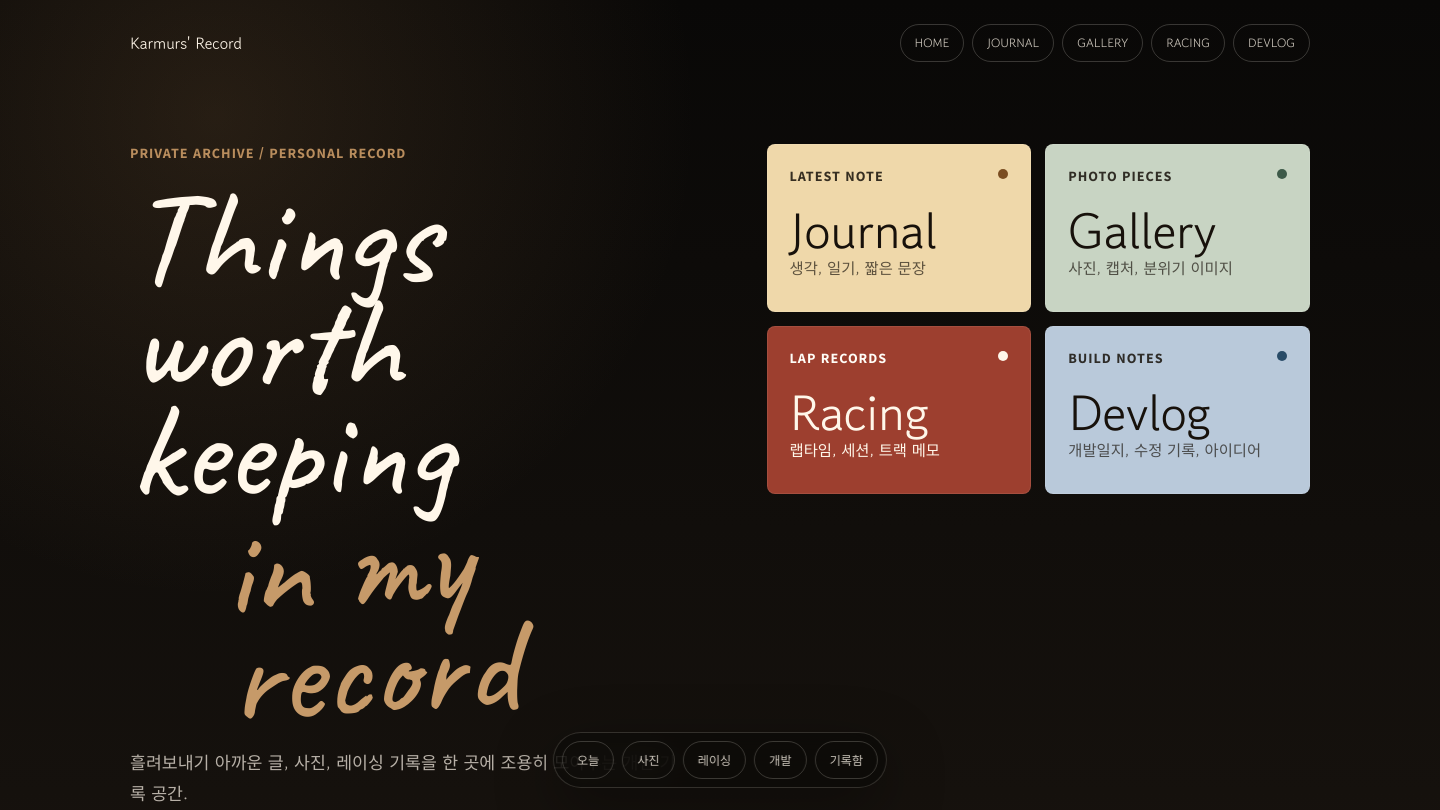
Karmurs Record homepage › opens a section and then a record detail
Click the button "latest note Journal 생각, 일기, 짧은 문장" at point(899, 228), box [767, 144, 1031, 312]
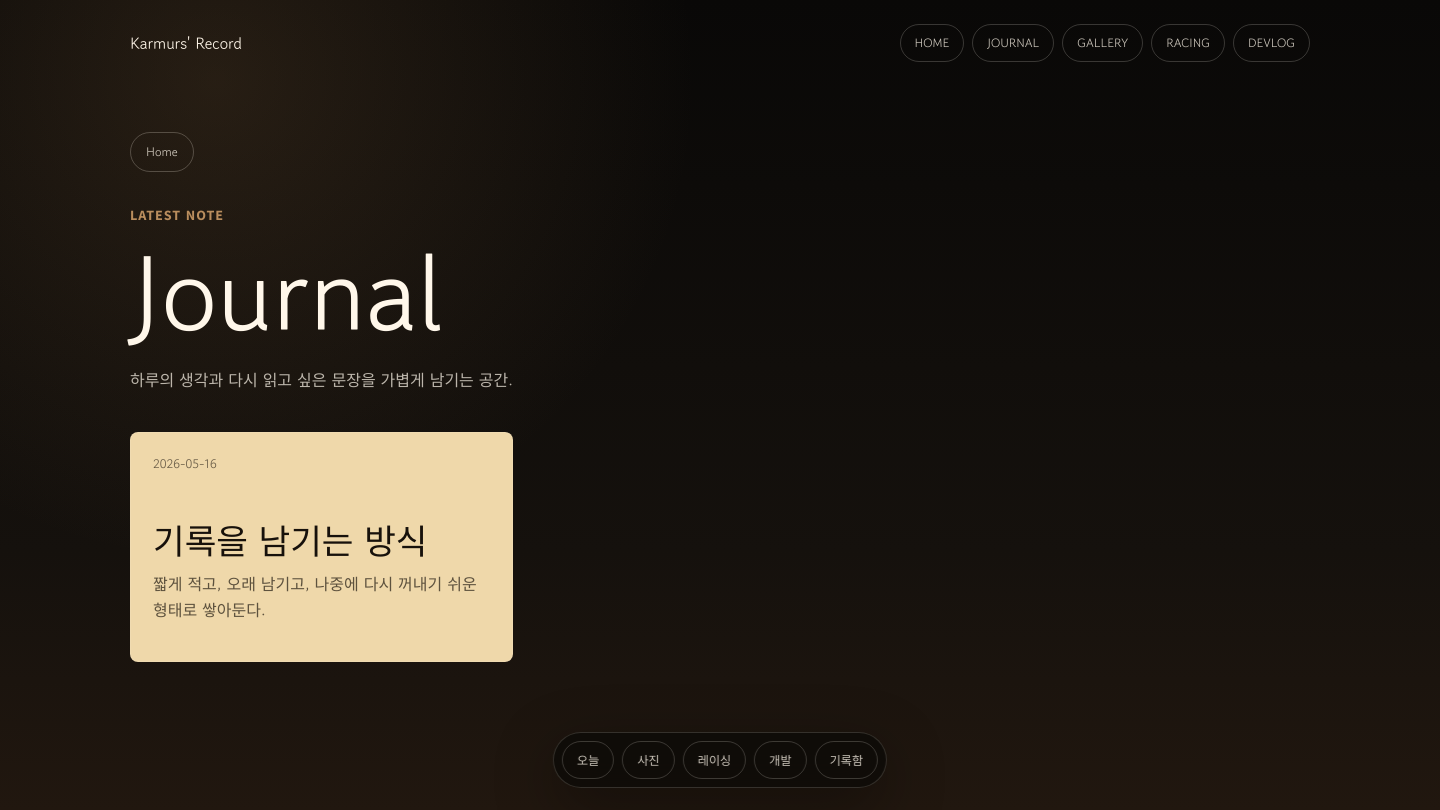
Expected: the heading "Journal" is shown, [130, 216, 443, 368]
Click the button "2026-05-16 기록을 남기는 방식 짧게 적고, 오래 남기고, 나중에 다시 꺼내기 쉬운 형태로 쌓아둔다." at point(321, 547), box [130, 432, 513, 662]
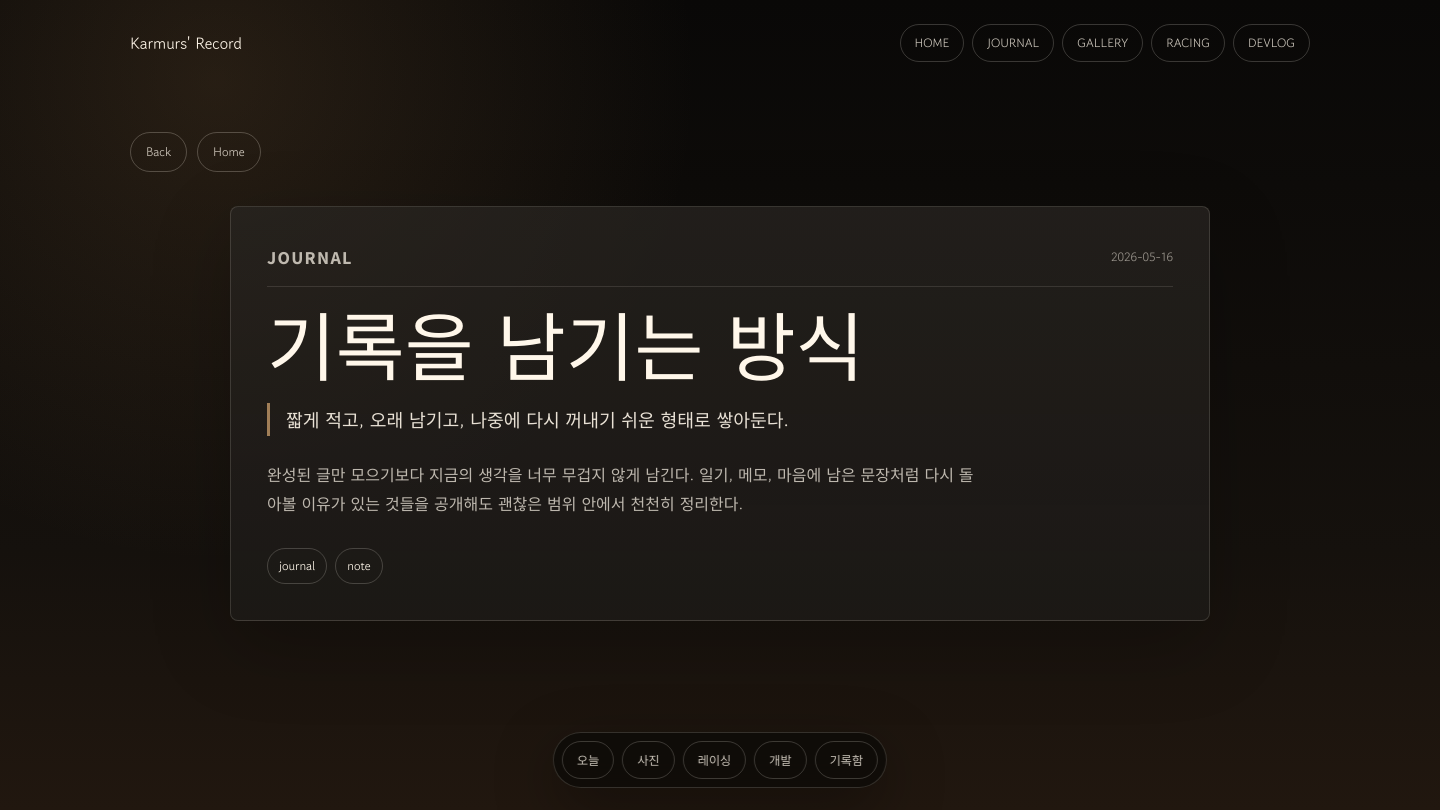
Now the text "완성된 글만 모으기보다" is shown, box [267, 462, 974, 515]
